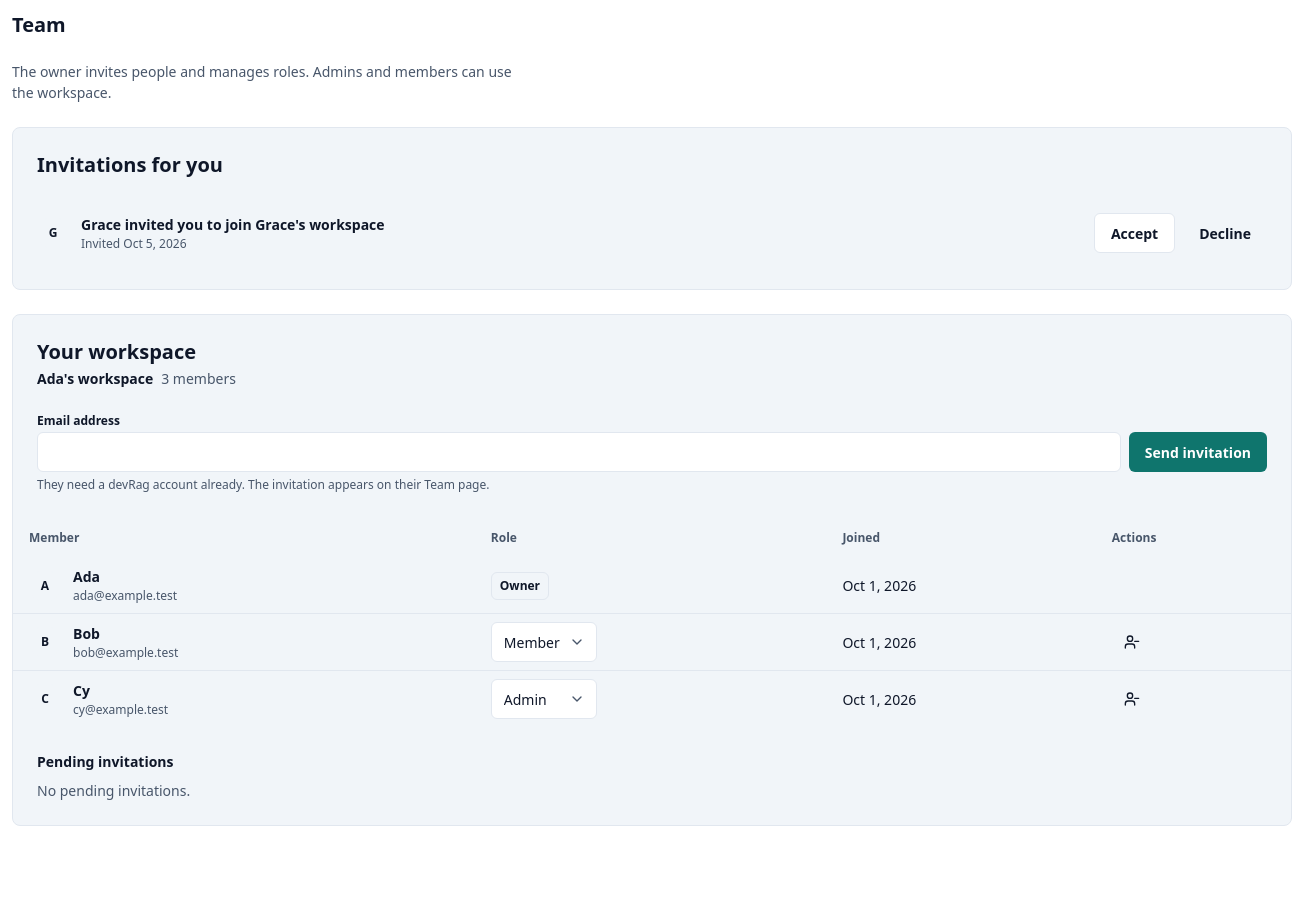
Test: invitations for you › tells the user the invitation is gone on 404 and refreshes the list
Click the button with aria-label "Accept invitation from Grace": [1135, 233] box [1094,213,1175,253]
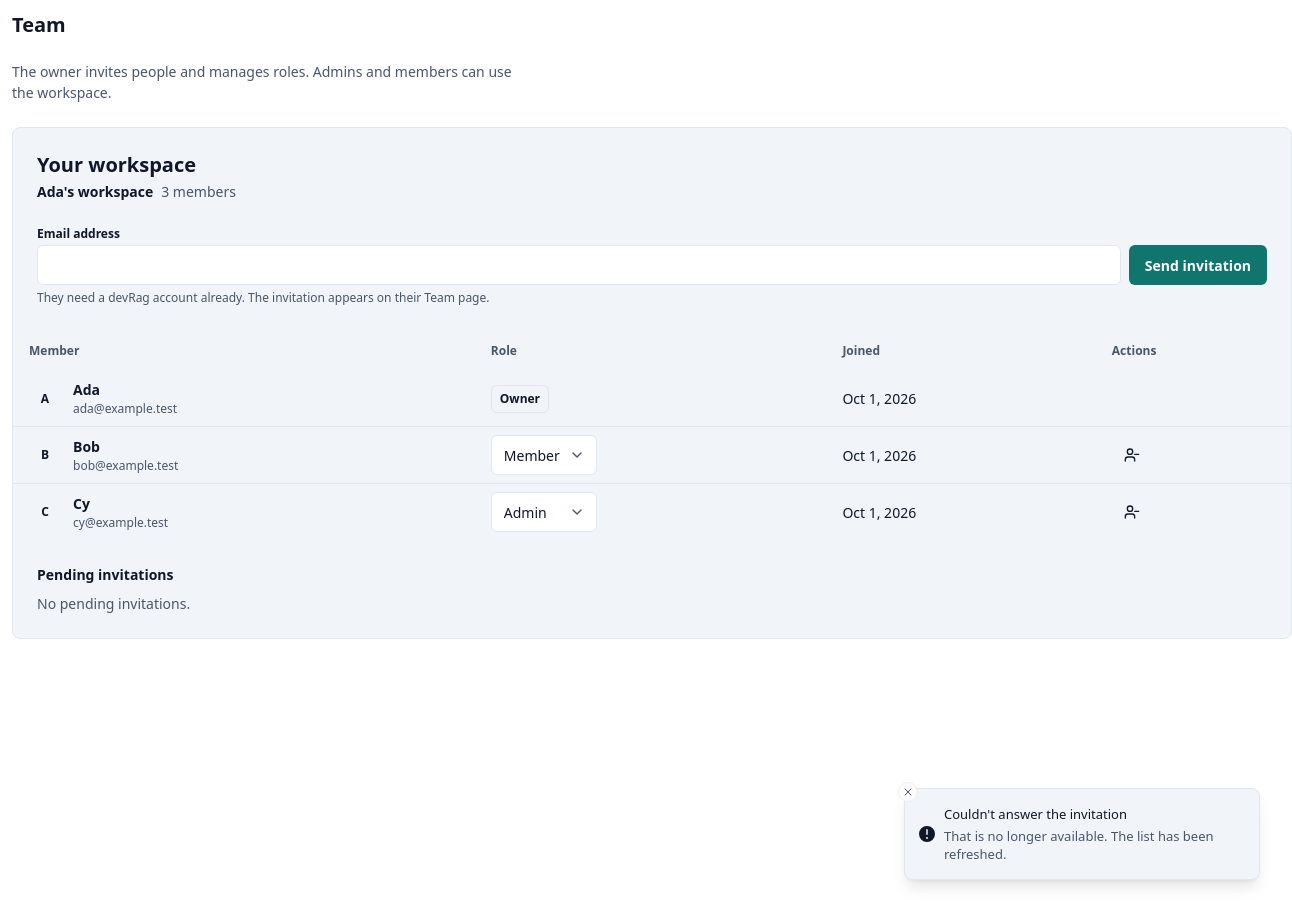
Expected: the text "That is no longer available. The list has been refreshed." is shown, [944,827,1214,863]
Expected: the element with test id "invitations-for-you" is gone
